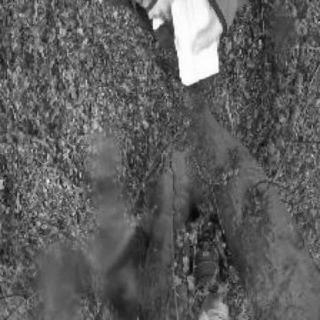other: (149, 5, 222, 91)
